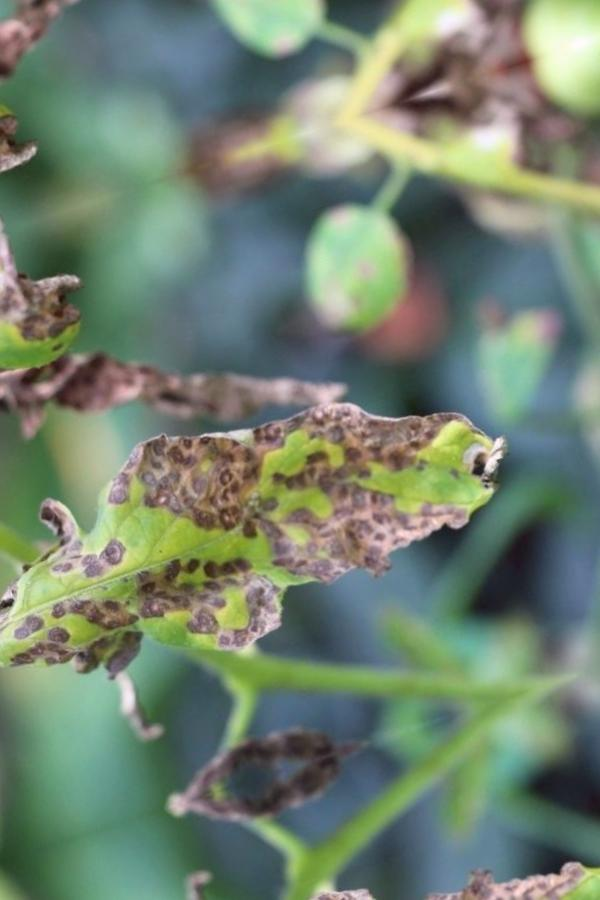Tomato leaf bacterial spot: (0, 316, 552, 731), (0, 213, 112, 450)
